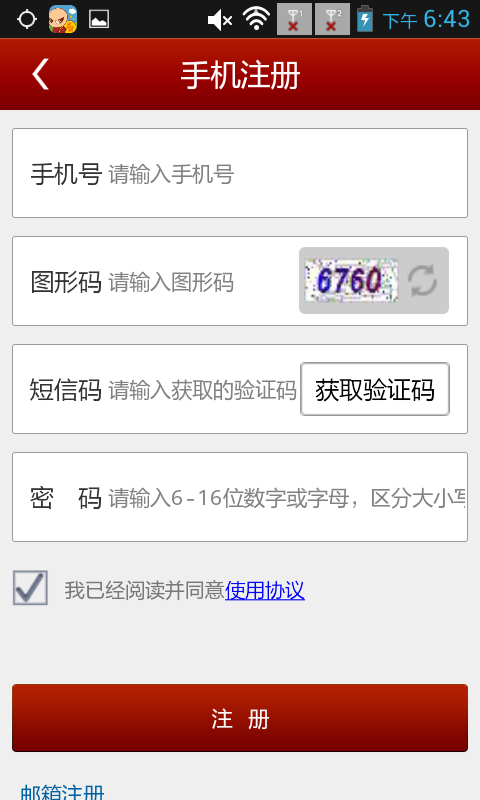button: (6, 679, 480, 760), (293, 358, 463, 419)
checkbox: (7, 562, 314, 613)
textview: (7, 120, 473, 226)
